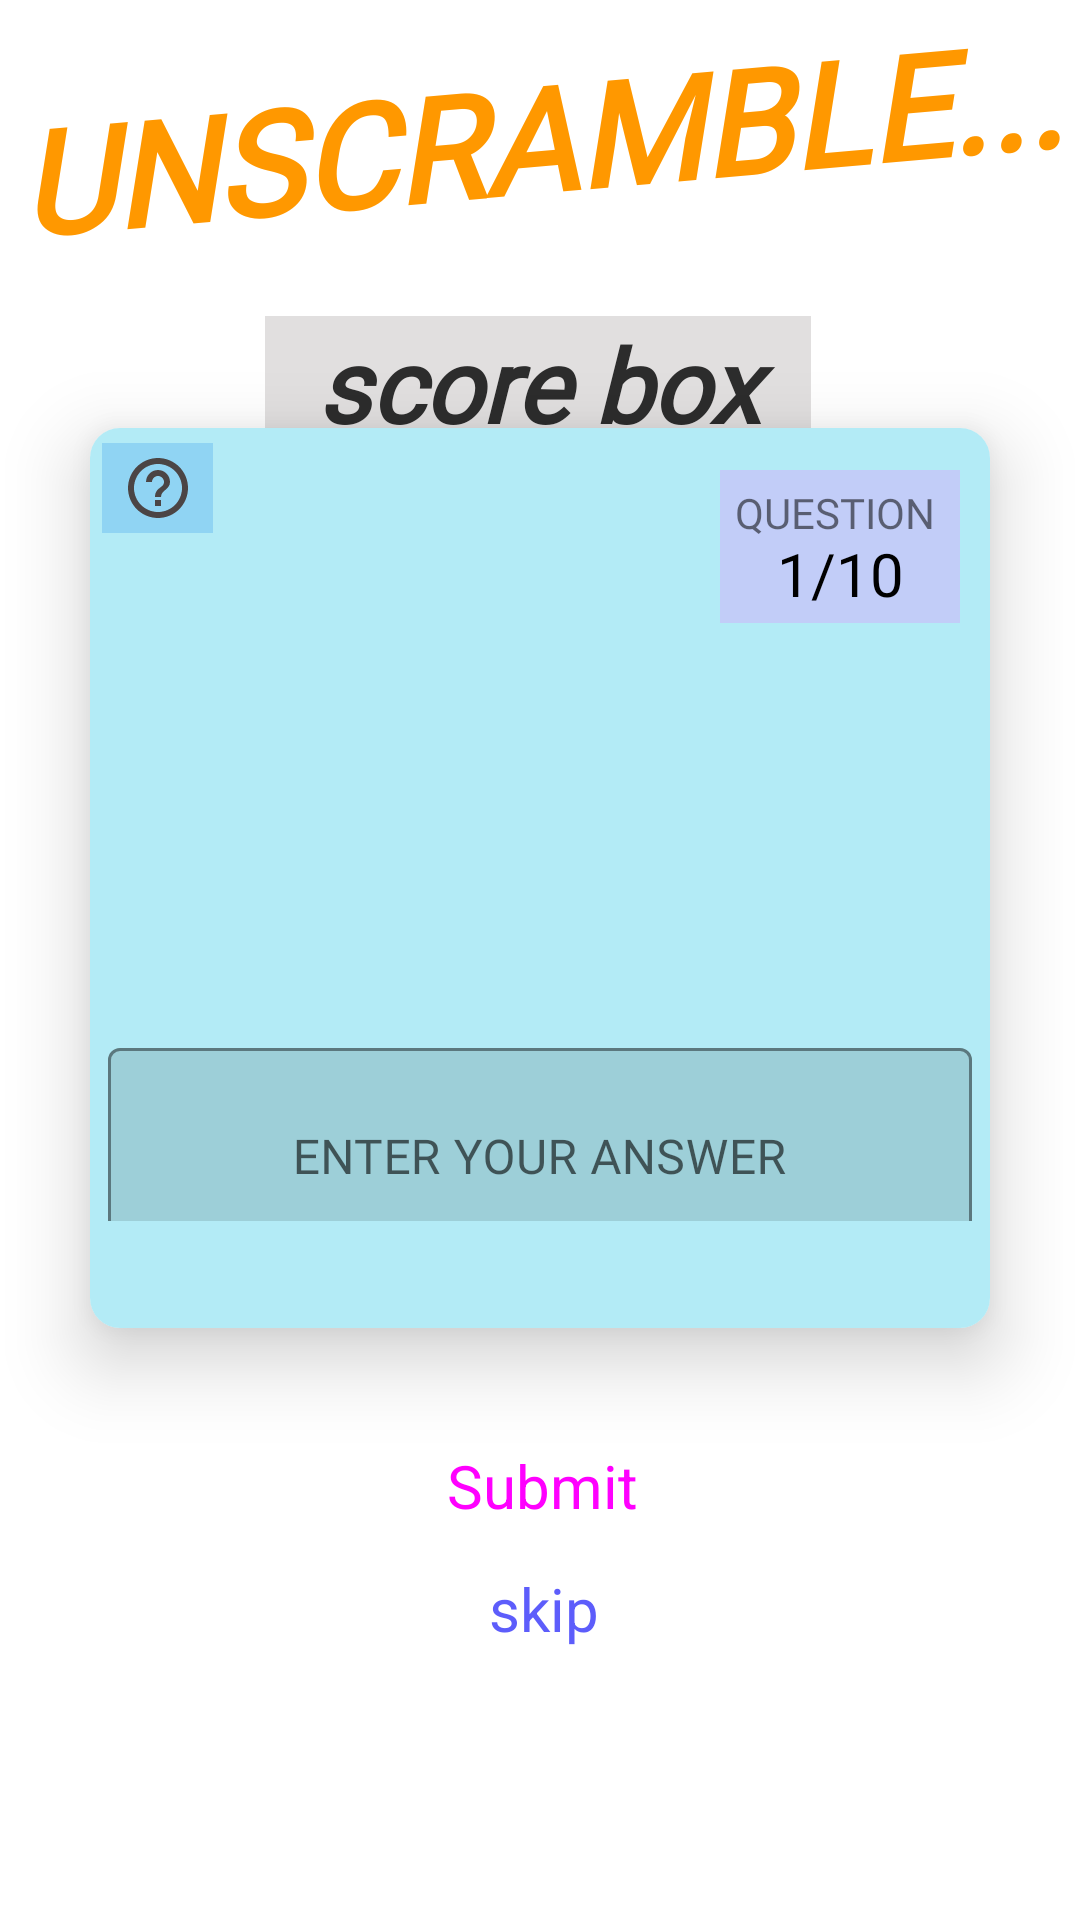

Icon click points for this 1080x1920 phone screenshot, format (x=x, y=y):
help: (x=157, y=488)
